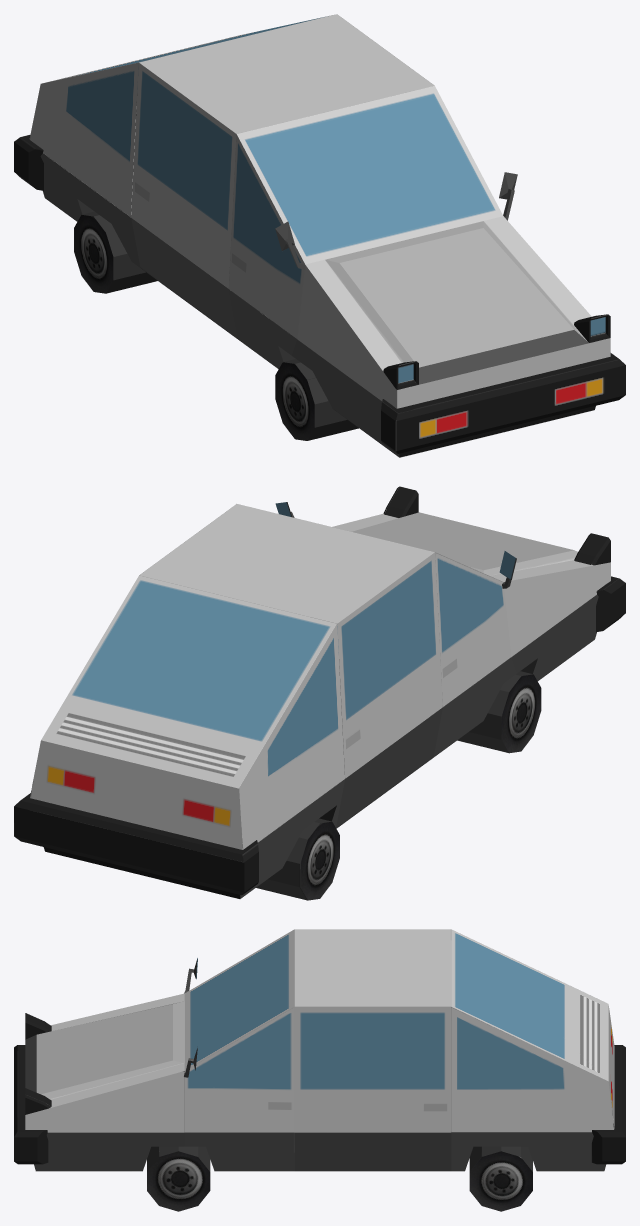
The model's file is MOBIL SEDAN FINAL.fbx.
3 views of the same model, one above another, from view 1: azimuth 30°, elevation 25°; view 2: azimuth 150°, elevation 25°; view 3: azimuth 270°, elevation 25° (orthographic). The views are drawn at different scales.
Visible parts, largest first — view 1: Mobil Sedan; view 2: Mobil Sedan; view 3: Mobil Sedan.
Part boxes in pixels (x1,y1,x2,y2): Mobil Sedan: [14, 14, 625, 457]; Mobil Sedan: [14, 486, 625, 900]; Mobil Sedan: [14, 929, 625, 1211].
Bounding box in the file's own units: 417 × 409 × 1139.
Materials: 1 (1 with a texture image).
